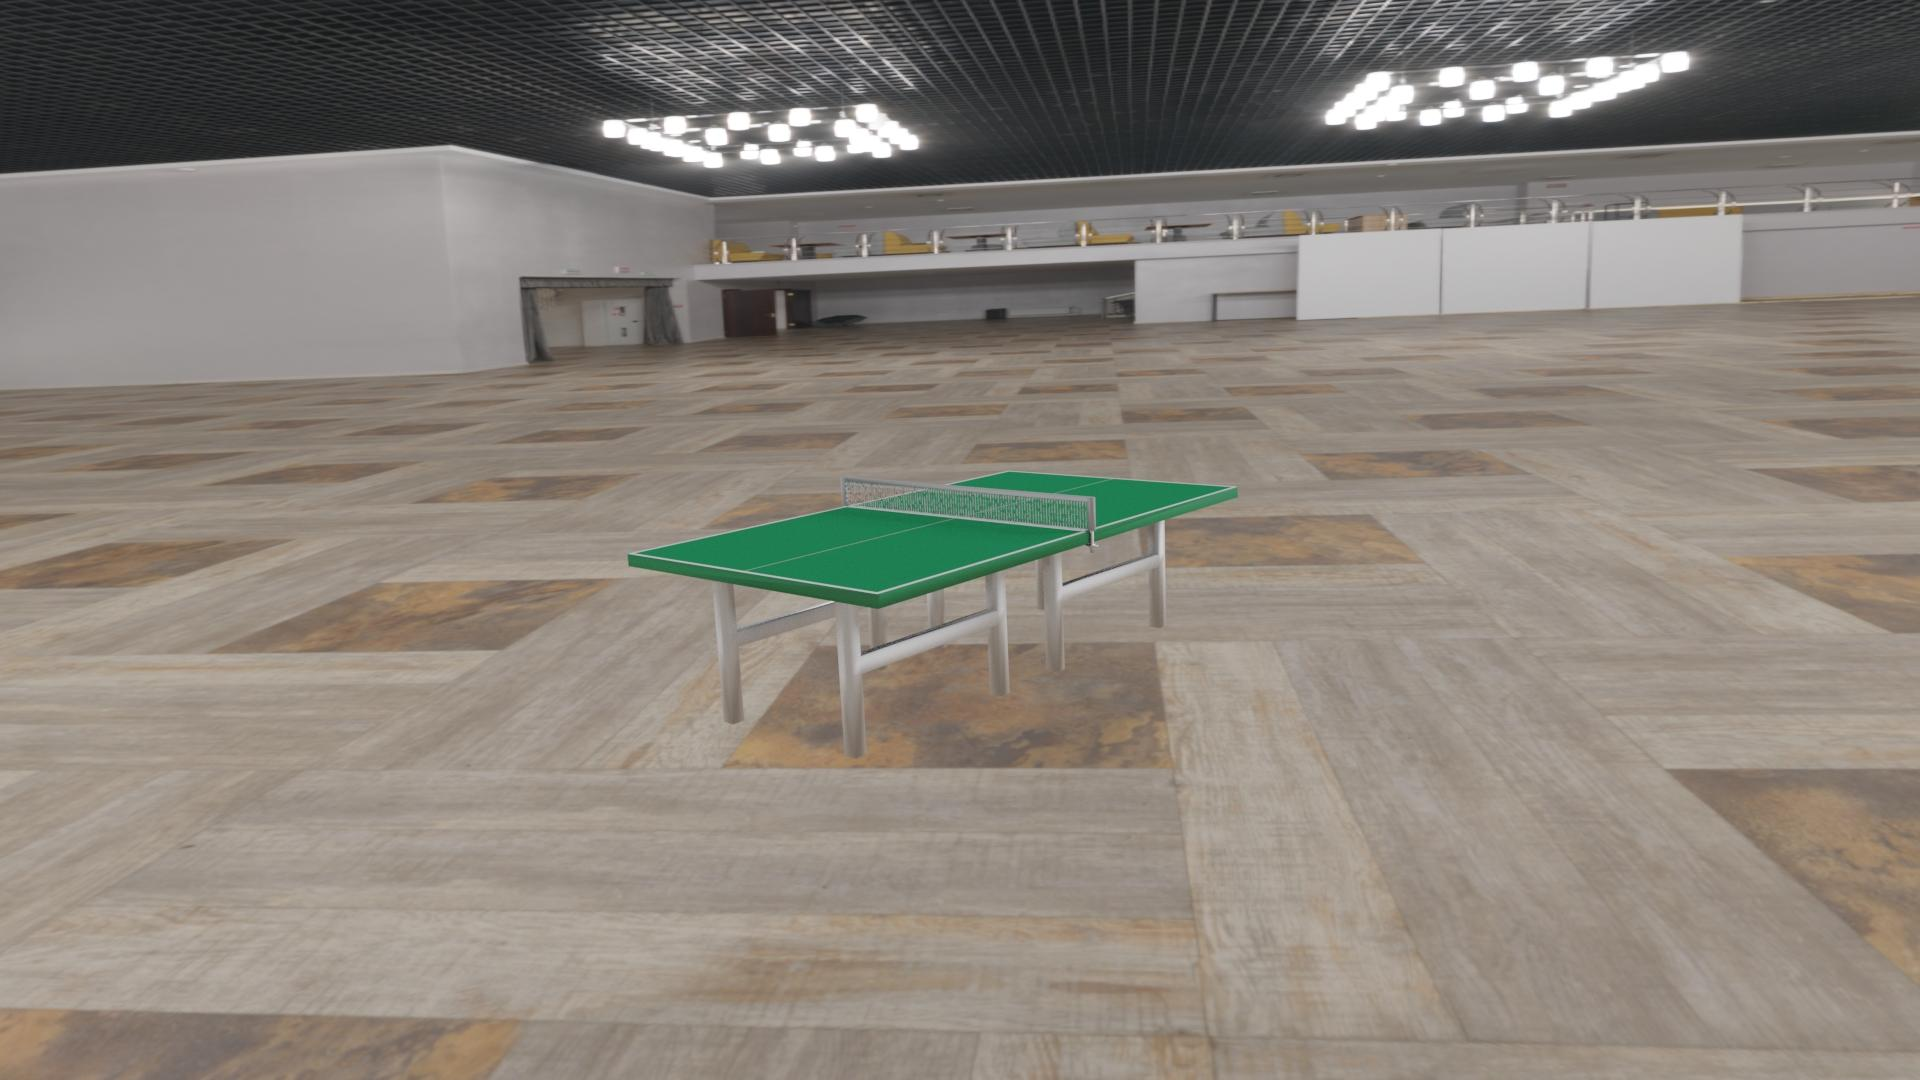table: (634, 471, 1233, 592)
